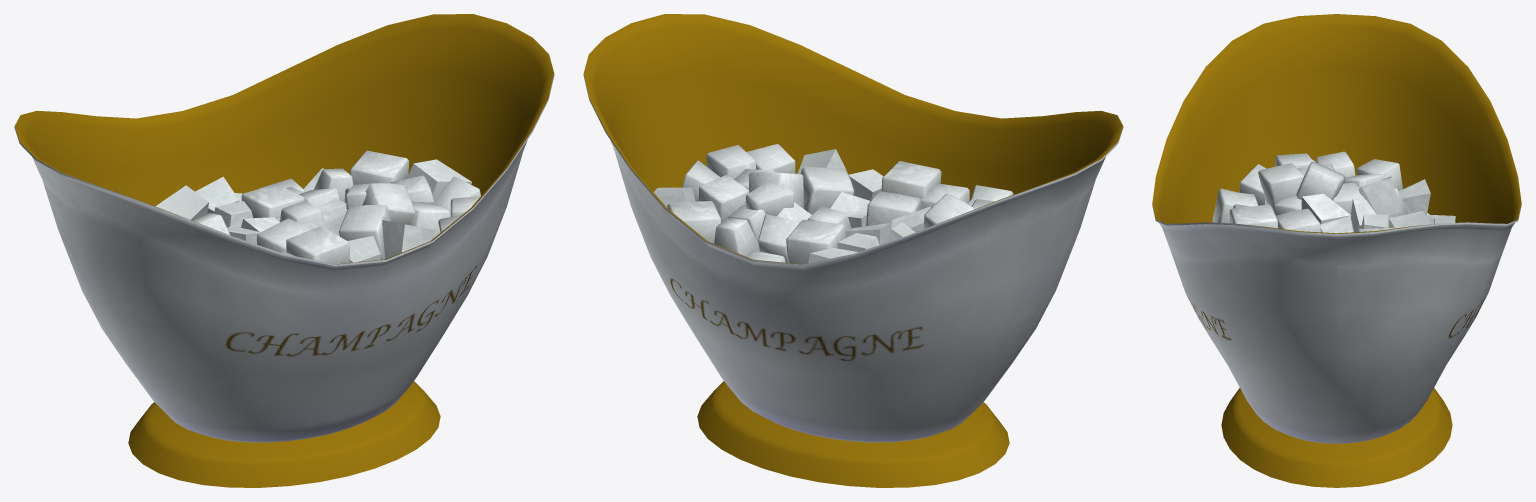
The model's file is IceBucket01_1_1.FBX.
The picture shows the model from 3 angles, left to right: view 1: azimuth 30°, elevation 25°; view 2: azimuth 150°, elevation 25°; view 3: azimuth 270°, elevation 25°; orthographic projection. The views are drawn at different scales.
Visible parts, largest first — view 1: IceBucket01_1; view 2: IceBucket01_1; view 3: IceBucket01_1.
Boxes of the visible parts, box(x1,y1,x2,y2) form: IceBucket01_1: box(14, 14, 554, 487); IceBucket01_1: box(583, 14, 1123, 487); IceBucket01_1: box(1152, 14, 1521, 487).
Bounding box in the file's own units: 38.63 × 24.64 × 27.4.
